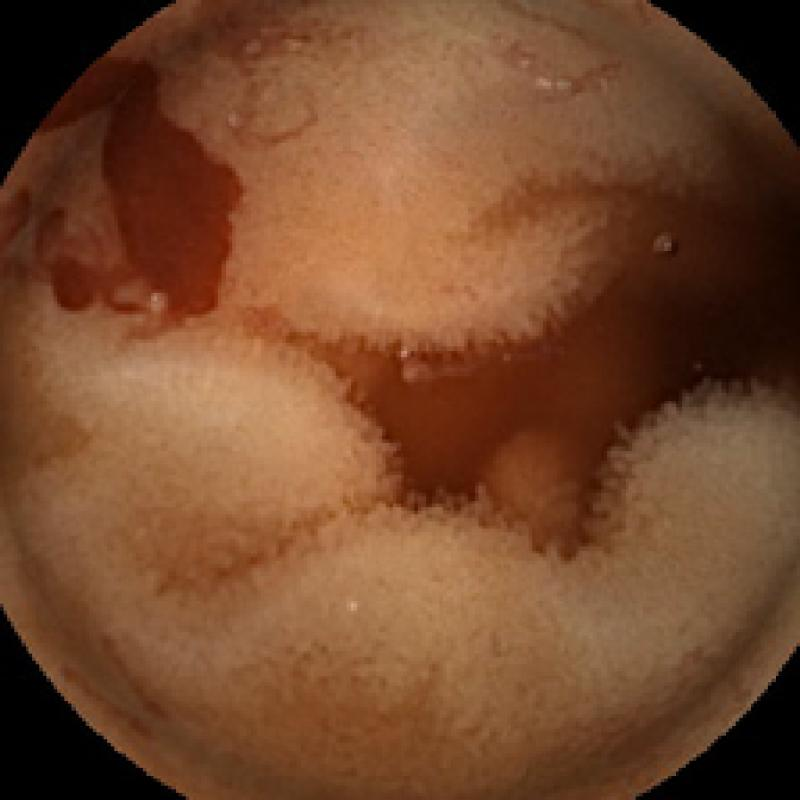bleeding: (0, 57, 243, 318)
